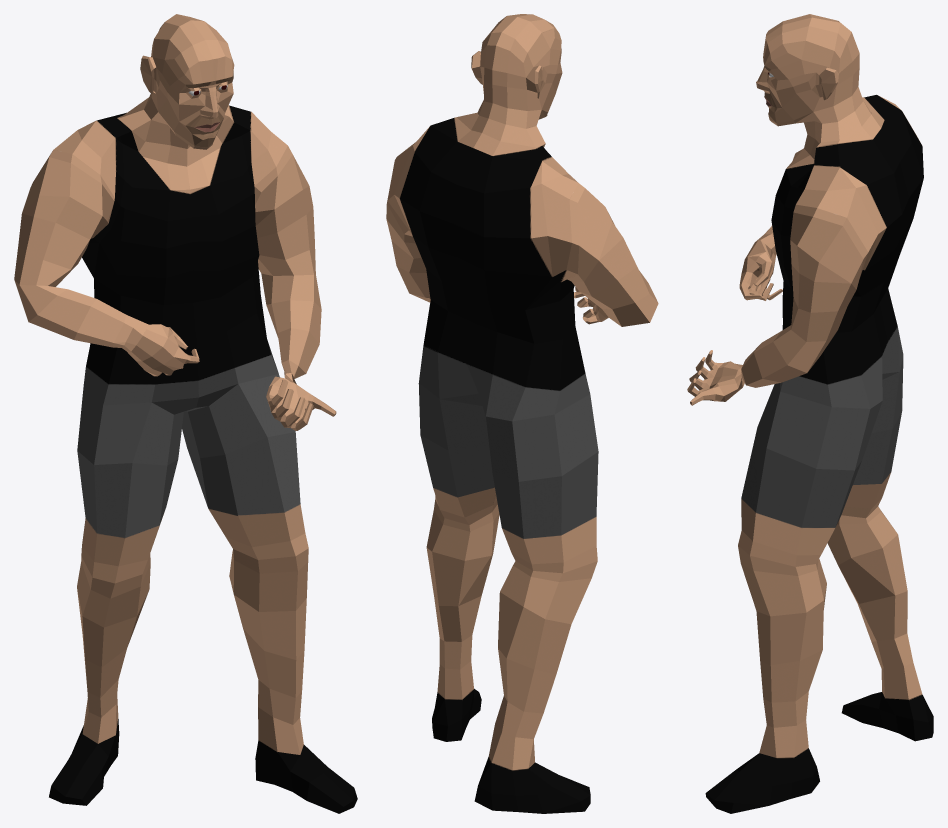
The model's file is PlayerIdle(221).obj.
The picture shows the model from 3 angles, left to right: view 1: azimuth 30°, elevation 25°; view 2: azimuth 150°, elevation 25°; view 3: azimuth 270°, elevation 25°; orthographic projection. The views are drawn at different scales.
Visible parts, largest first — view 1: Plane002; view 2: Plane002; view 3: Plane002.
Part boxes in pixels (<box>): Plane002: <box>14,14,357,813</box>; Plane002: <box>386,14,658,813</box>; Plane002: <box>687,14,933,813</box>.
Bounding box in the file's own units: 677 × 1802 × 545.
